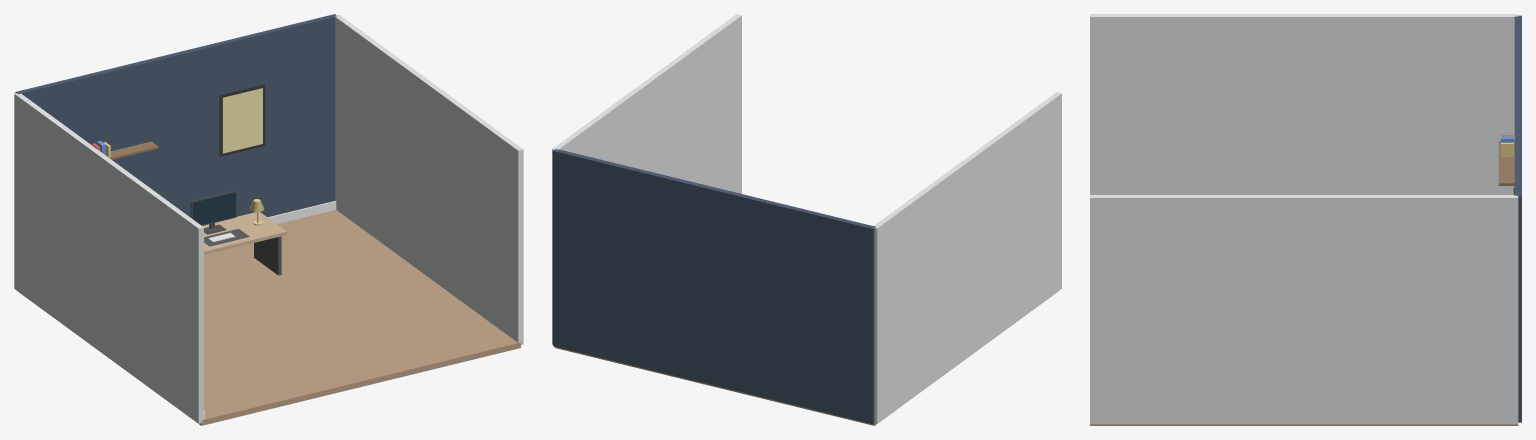
The model's file is studio_room.glb.
3 renders of one model, left to right at view 1: azimuth 30°, elevation 25°; view 2: azimuth 150°, elevation 25°; view 3: azimuth 270°, elevation 25°, orthographic. The views are drawn at different scales.
Visible parts, largest first — view 1: Floor, LeftWall, RightWall, BackWall, Poster_Canvas, Desk_Top, Monitor_Main_Screen, Desk_Leg_R, Poster_Frame, Baseboard_Back; view 2: BackWall, LeftWall, RightWall, Floor; view 3: RightWall, LeftWall, BackWall, Floor, Wall_Shelf.
Boxes of the visible parts, bbox=[...] form: Floor: bbox=[17, 210, 520, 425]; LeftWall: bbox=[14, 93, 203, 423]; RightWall: bbox=[335, 14, 523, 344]; BackWall: bbox=[15, 14, 336, 217]; Poster_Canvas: bbox=[222, 88, 262, 153]; Desk_Top: bbox=[202, 211, 286, 254]; Monitor_Main_Screen: bbox=[192, 192, 235, 225]; Desk_Leg_R: bbox=[254, 236, 281, 275]; Poster_Frame: bbox=[219, 84, 265, 156]; Baseboard_Back: bbox=[268, 201, 336, 223]; BackWall: bbox=[553, 148, 875, 424]; LeftWall: bbox=[874, 92, 1061, 423]; RightWall: bbox=[552, 14, 741, 344]; Floor: bbox=[554, 292, 1056, 425]; RightWall: bbox=[1090, 195, 1518, 424]; LeftWall: bbox=[1090, 14, 1518, 194]; BackWall: bbox=[1514, 15, 1521, 422]; Floor: bbox=[1090, 424, 1518, 425]; Wall_Shelf: bbox=[1498, 141, 1514, 185].
Size of the model in its own units: 6.1 by 3.55 by 6.05.
